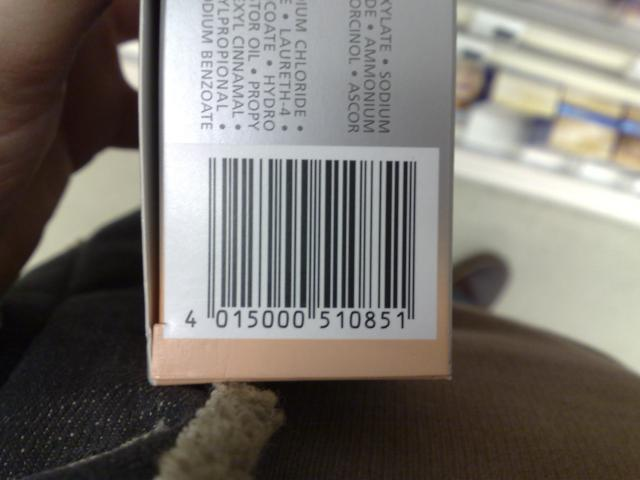Barcode: (166, 147, 436, 337)
